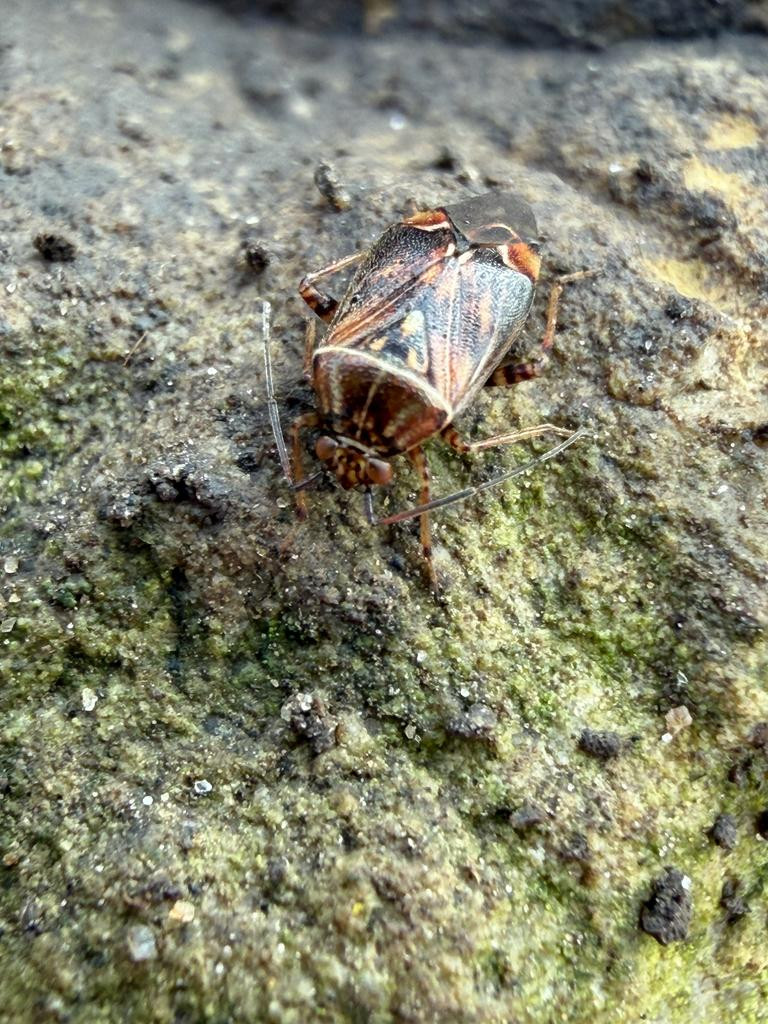plant_bugs: (200, 110, 650, 634)
